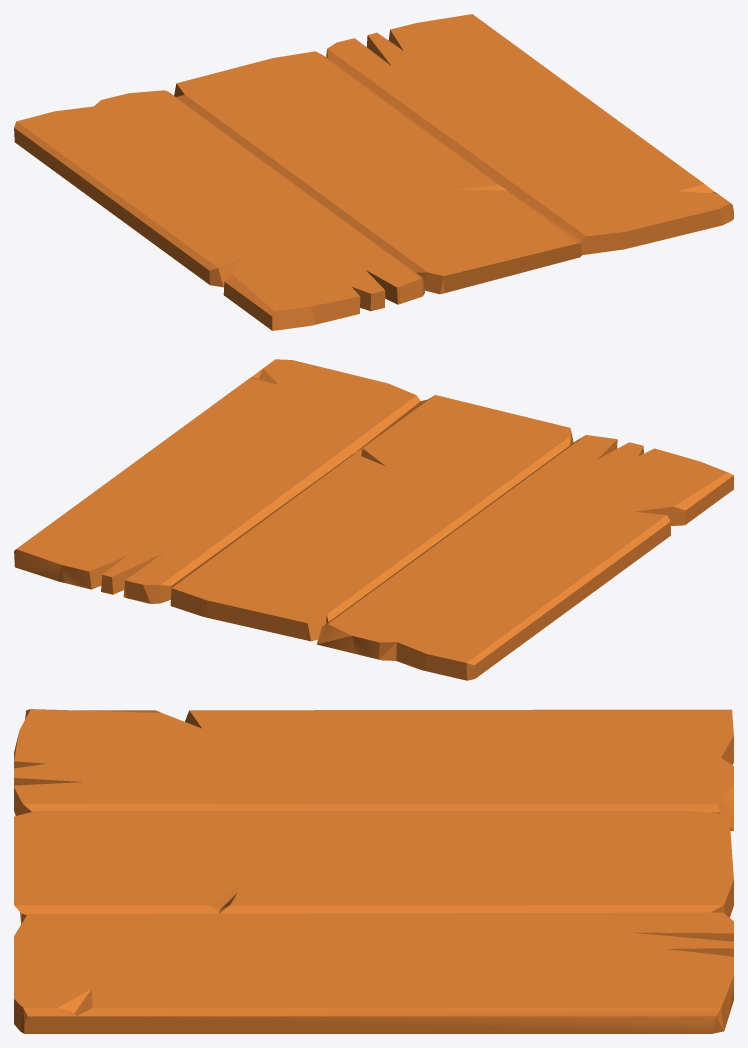
File: wooden_floor.fbx
3 renders of one model, top to bottom at view 1: azimuth 30°, elevation 25°; view 2: azimuth 150°, elevation 25°; view 3: azimuth 270°, elevation 25°, orthographic. The views are drawn at different scales.
Parts seen in each view (by area): view 1: floor_tile_large.002; view 2: floor_tile_large.002; view 3: floor_tile_large.002.
Part boxes in pixels (bbox=[...]): floor_tile_large.002: bbox=[14, 14, 733, 330]; floor_tile_large.002: bbox=[14, 359, 733, 680]; floor_tile_large.002: bbox=[14, 709, 733, 1033].
Size of the model in its own units: 400 by 14.34 by 400.
